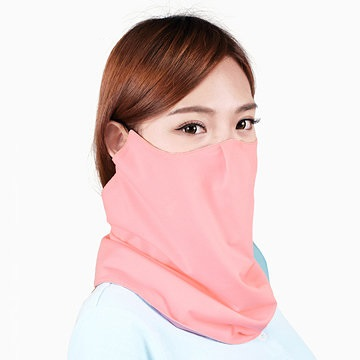face_mask: (136, 51, 262, 237)
